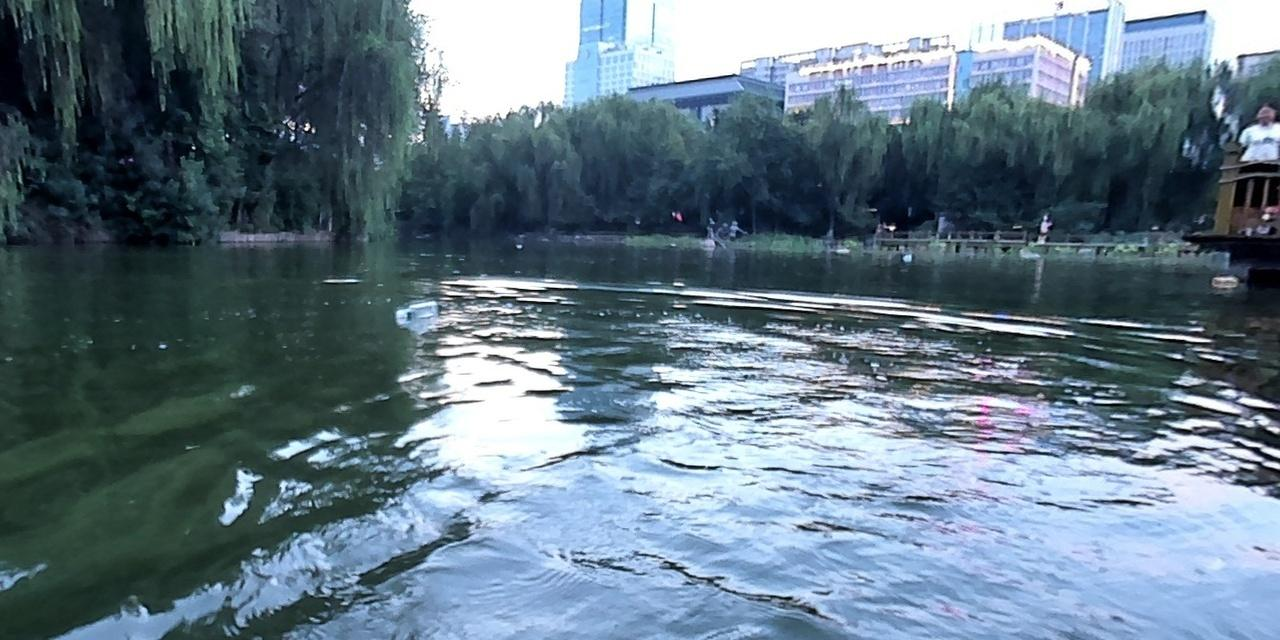bottle: (394, 300, 438, 322), (1211, 273, 1237, 287)
